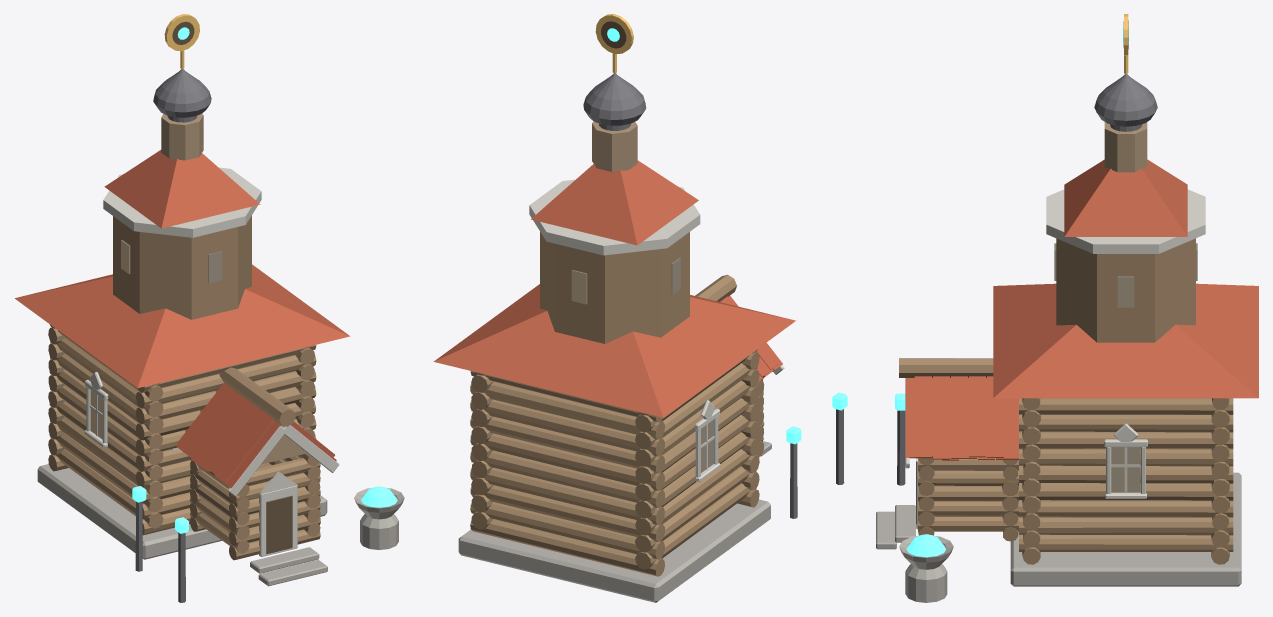
The model's file is bld_church_e1.glb.
The picture shows the model from 3 angles, left to right: view 1: azimuth 30°, elevation 25°; view 2: azimuth 150°, elevation 25°; view 3: azimuth 270°, elevation 25°; orthographic projection. The views are drawn at different scales.
Visible parts, largest first — view 1: church; view 2: church; view 3: church.
Boxes of the visible parts, x1,y1,x2,y2 form: church: [15, 14, 404, 602]; church: [433, 14, 847, 602]; church: [876, 14, 1258, 602].
Size of the model in its own units: 1.4 by 2.75 by 1.82.
